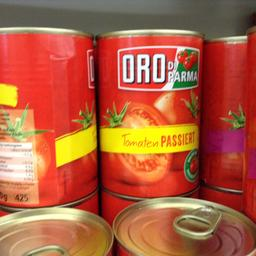tomato_sauce: (94, 28, 204, 198), (0, 25, 96, 209)
